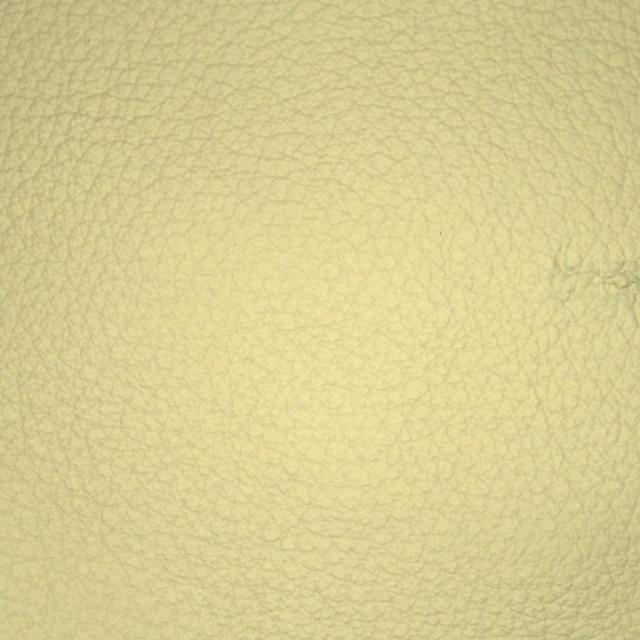Bacterial Injury: (421, 210, 625, 344)
